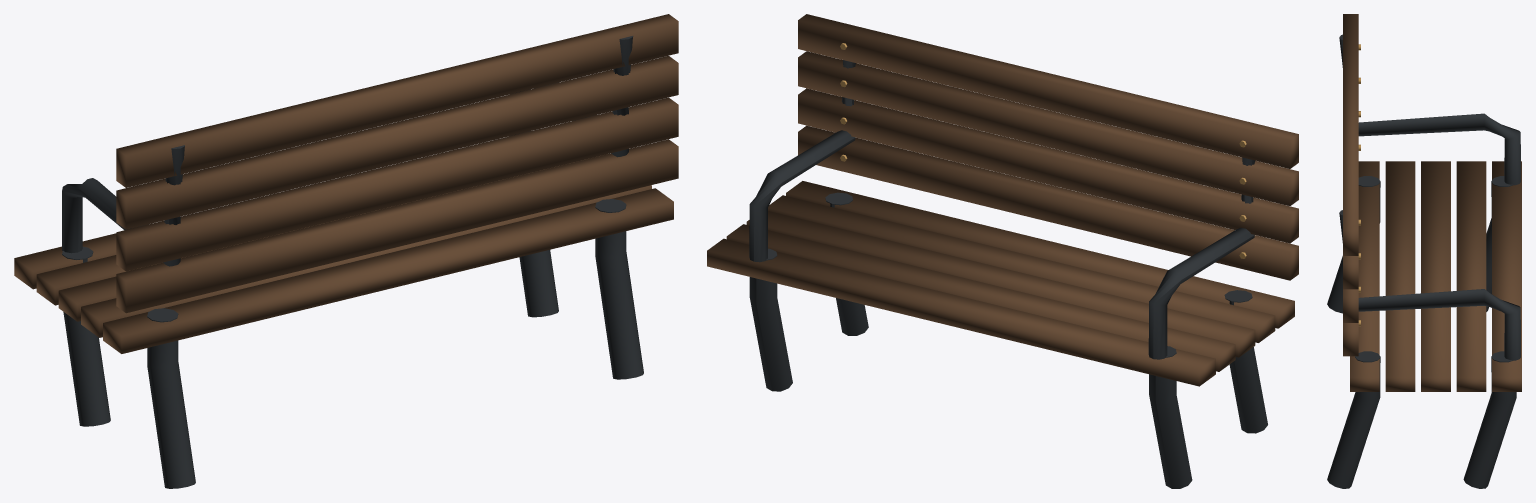
Rendered from bench.glb.
The picture shows the model from 3 angles, left to right: view 1: azimuth 30°, elevation 25°; view 2: azimuth 150°, elevation 25°; view 3: azimuth 270°, elevation 25°; orthographic projection. The views are drawn at different scales.
Visible parts, largest first — view 1: bench_wood.002, bench_black.002; view 2: bench_wood.002, bench_black.002; view 3: bench_wood.002, bench_black.002.
Part boxes in pixels (x1,y1,x2,y2): bench_wood.002: [14, 14, 678, 353]; bench_black.002: [62, 36, 643, 488]; bench_wood.002: [707, 14, 1298, 386]; bench_black.002: [749, 60, 1267, 488]; bench_wood.002: [1343, 14, 1521, 391]; bench_black.002: [1327, 34, 1520, 488].
Bounding box in the file's own units: 1.8 × 1.07 × 0.6857.
